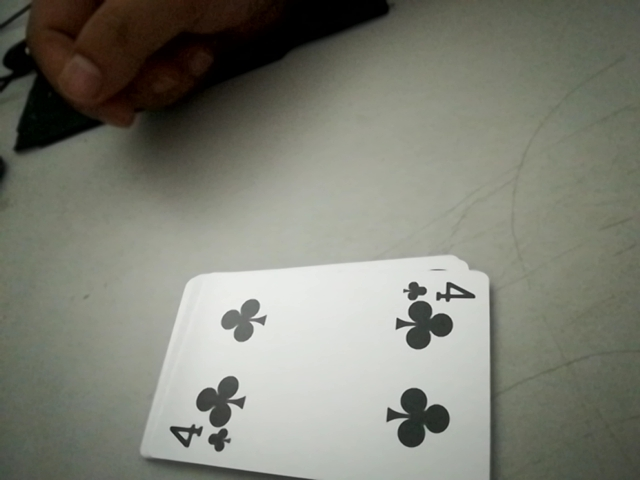mh 4: (155, 416, 239, 460), (401, 272, 482, 307)
